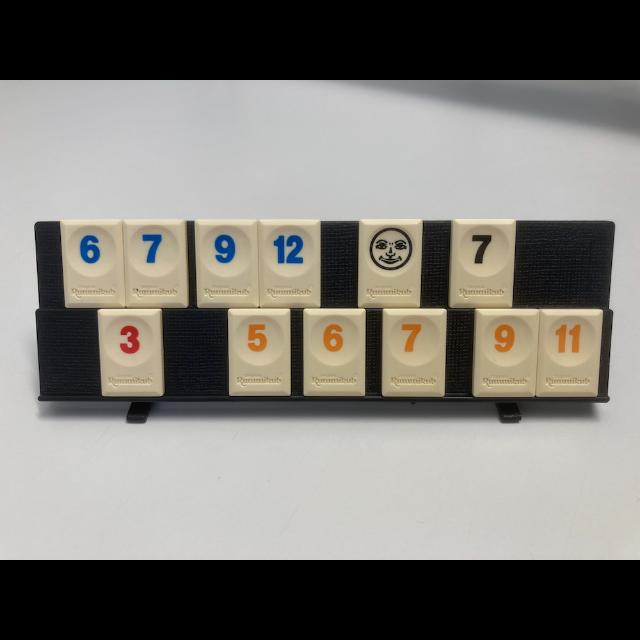black_7: (449, 219, 516, 308)
blue_12: (259, 220, 320, 308)
blue_6: (61, 221, 125, 308)
blue_7: (124, 221, 189, 308)
blue_9: (195, 220, 258, 308)
joker: (358, 219, 422, 309)
orange_11: (536, 309, 602, 396)
orange_5: (229, 309, 290, 396)
orange_6: (304, 309, 365, 396)
orange_7: (382, 311, 446, 396)
orange_9: (474, 309, 538, 396)
red_3: (98, 309, 163, 396)
